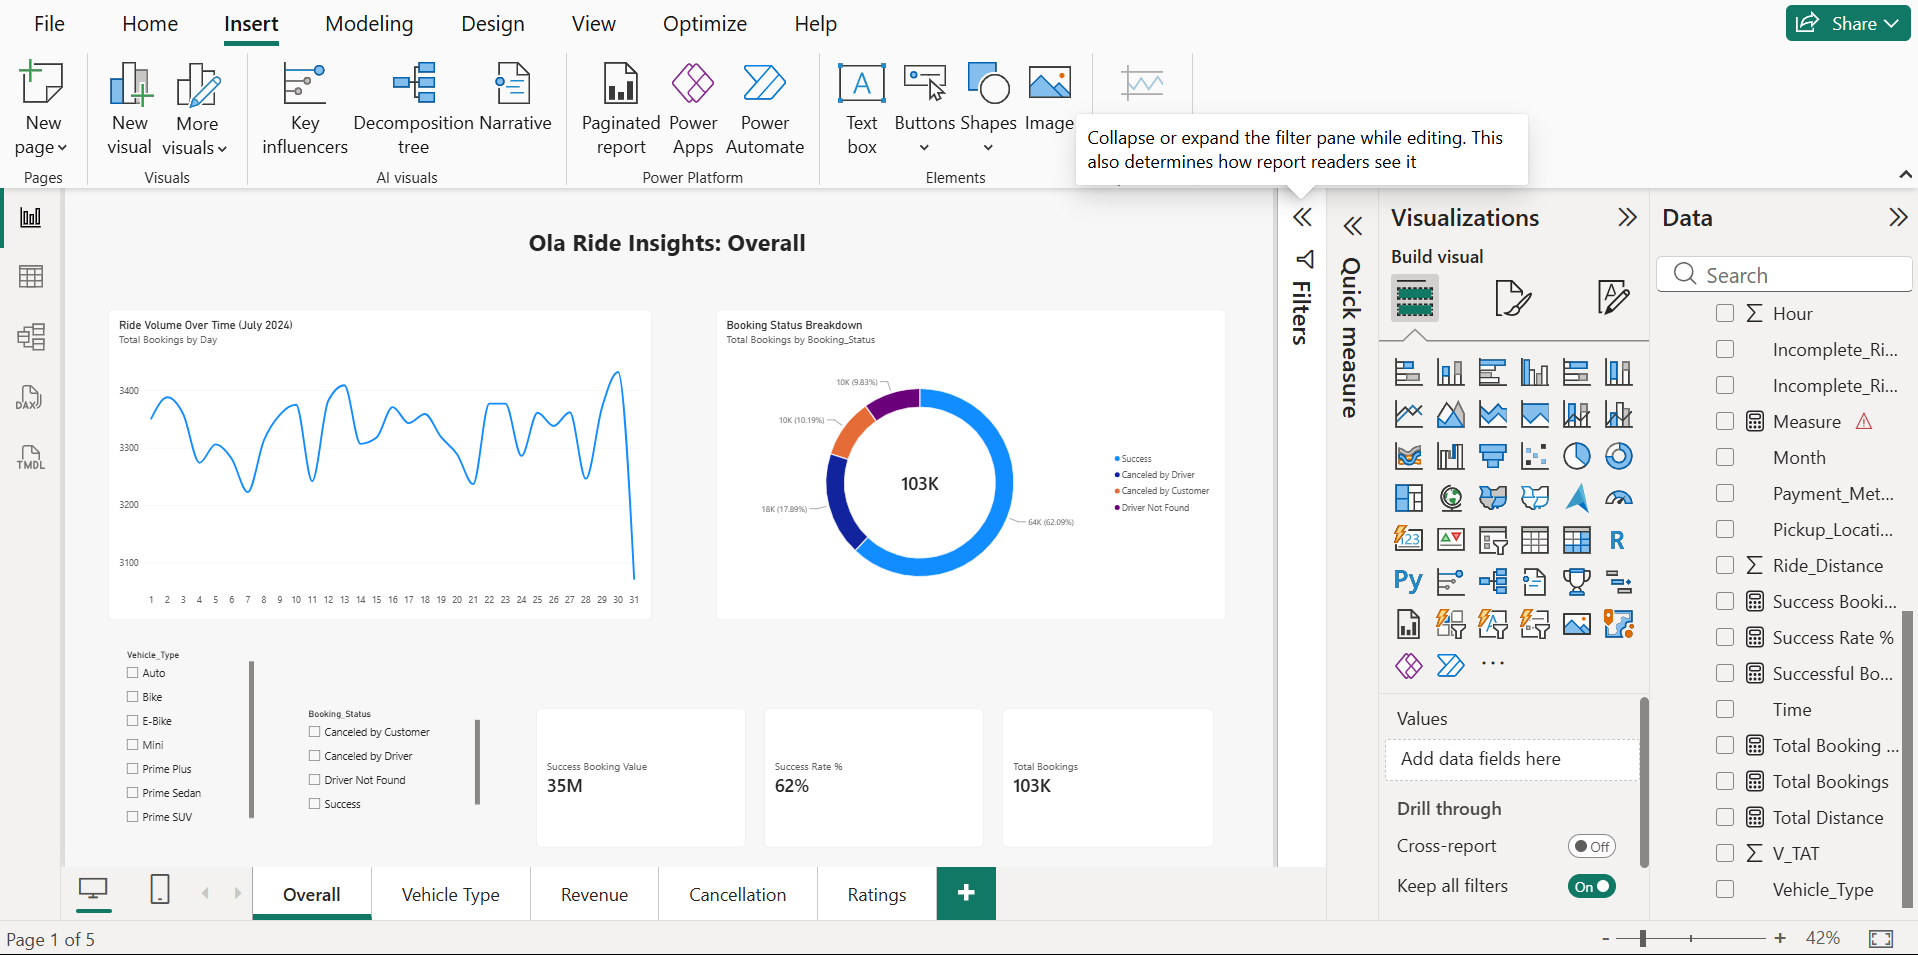

This screenshot's page, from the dashboard's own definition file:
{"tool":"powerbi","page":{"name":"Overall","canvas":[1920,1080],"ordinal":0},"visuals":[{"type":"cardVisual","fields":{"Data":["ola_clean.Total Bookings"]},"box":[1491.2,827.9,336.4,221.9],"z":0},{"type":"lineChart","title":"Ride Volume Over Time (July 2024)","fields":{"Category":["ola_clean.Day"],"Y":["ola_clean.Total Bookings"]},"box":[69.2,193.3,863.7,493.9],"z":1000},{"type":"cardVisual","fields":{"Data":["ola_clean.Success Rate %"]},"box":[1111.8,827.9,350.7,221.9],"z":2000},{"type":"cardVisual","fields":{"Data":["ola_clean.Success Booking Value"]},"box":[749.2,827.9,334,221.9],"z":3000},{"type":"donutChart","title":"Booking Status Breakdown","fields":{"Category":["ola_clean.Booking_Status"],"Y":["ola_clean.Total Bookings"]},"box":[1035.5,193.3,811.2,493.9],"z":4000},{"type":"slicer","fields":{"Values":["ola_clean.Vehicle_Type"]},"box":[90.7,734.9,210,279.2],"z":5000},{"type":"slicer","fields":{"Values":["ola_clean.Booking_Status"]},"box":[379.4,827.9,280.6,164.4],"z":6000},{"type":"textbox","box":[69.2,59.6,1777.5,83.5],"z":7000}]}

Visuals, with their boxes on the page's 1920x1080 design canvas (x1, y1, x2, y2). These are canvas units, not pixel positions in the 1918x955 screenshot, which may show the page scaled, cropped or inside an application window:
cardVisual - ola_clean.Total Bookings: {"left": 1491, "top": 828, "right": 1828, "bottom": 1050}
"Ride Volume Over Time (July 2024)" lineChart: {"left": 69, "top": 193, "right": 933, "bottom": 687}
cardVisual - ola_clean.Success Rate %: {"left": 1112, "top": 828, "right": 1462, "bottom": 1050}
cardVisual - ola_clean.Success Booking Value: {"left": 749, "top": 828, "right": 1083, "bottom": 1050}
"Booking Status Breakdown" donutChart: {"left": 1036, "top": 193, "right": 1847, "bottom": 687}
slicer - ola_clean.Vehicle_Type: {"left": 91, "top": 735, "right": 301, "bottom": 1014}
slicer - ola_clean.Booking_Status: {"left": 379, "top": 828, "right": 660, "bottom": 992}
textbox: {"left": 69, "top": 60, "right": 1847, "bottom": 143}
